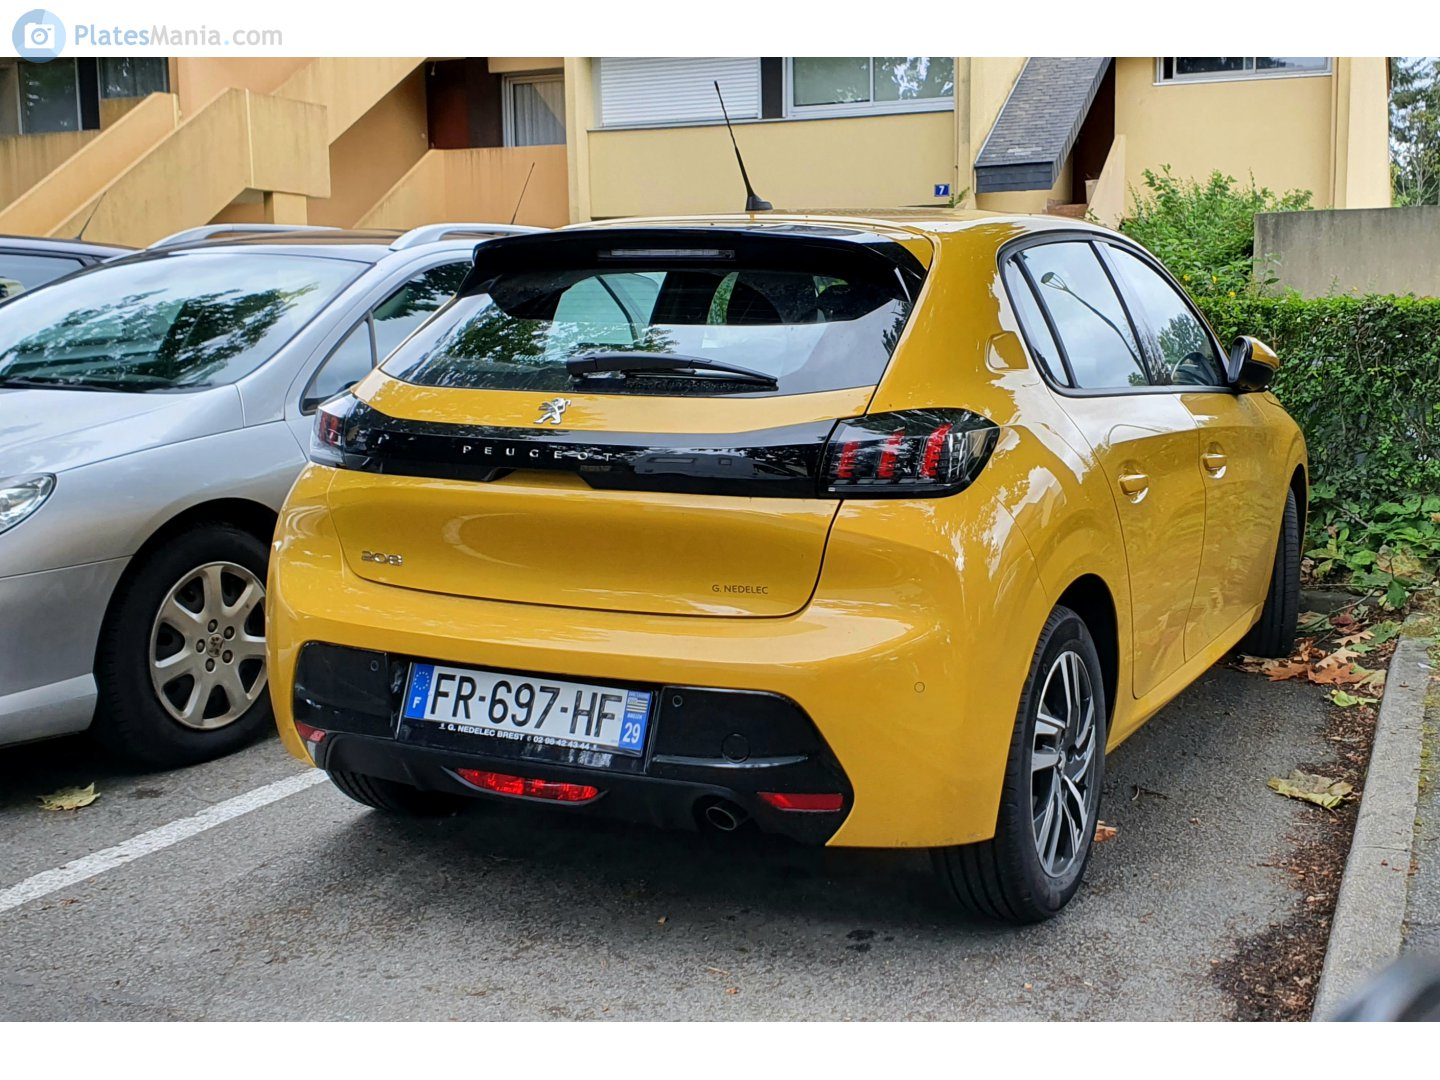licence plate: (396, 654, 660, 763)
